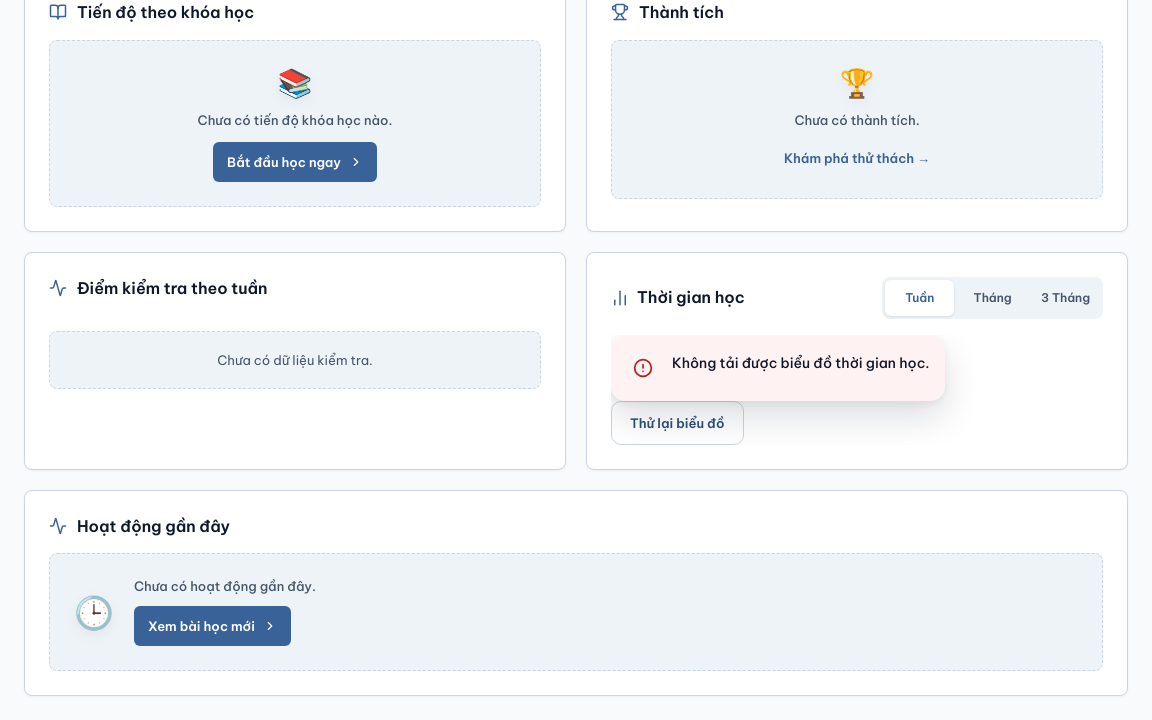
Test case: retries the chart independently without reloading the profile
(page scrolled)
Click the button "Thử lại biểu đồ": (677, 423) [611, 401, 744, 445]
(page scrolled)
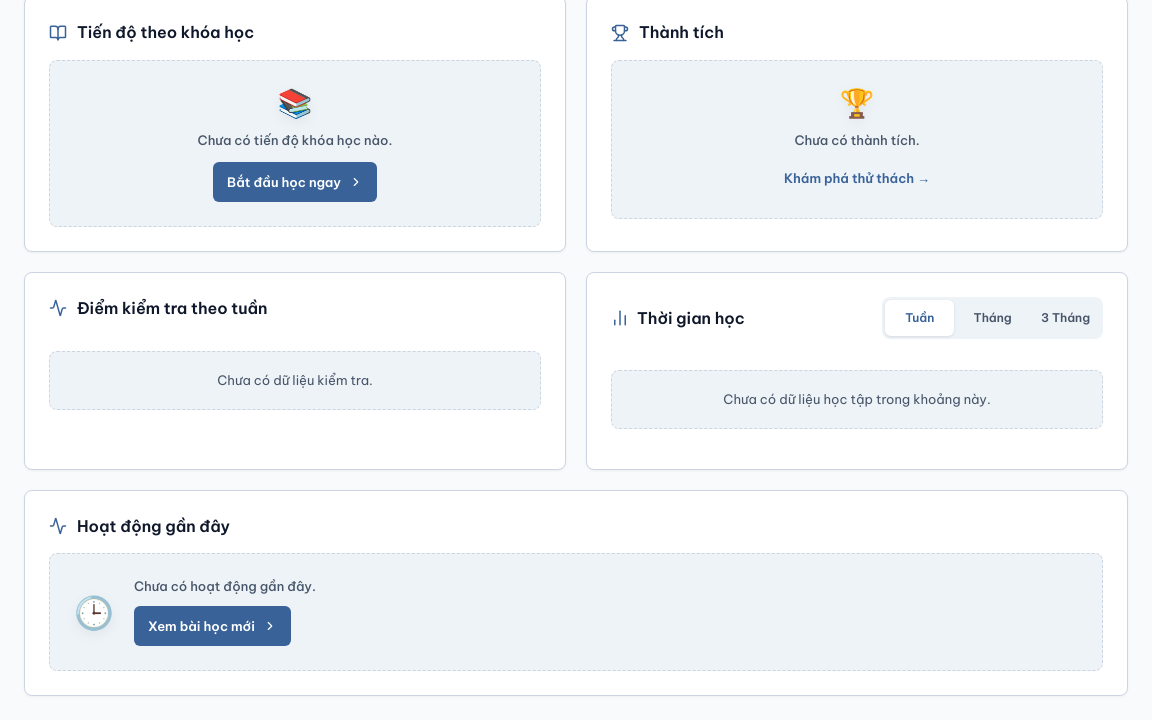
Check: the text "Chưa có dữ liệu học tập trong khoảng này." is shown, box [611, 370, 1103, 429]
